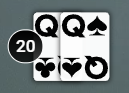q: (60, 12, 89, 41), (33, 12, 60, 40)
